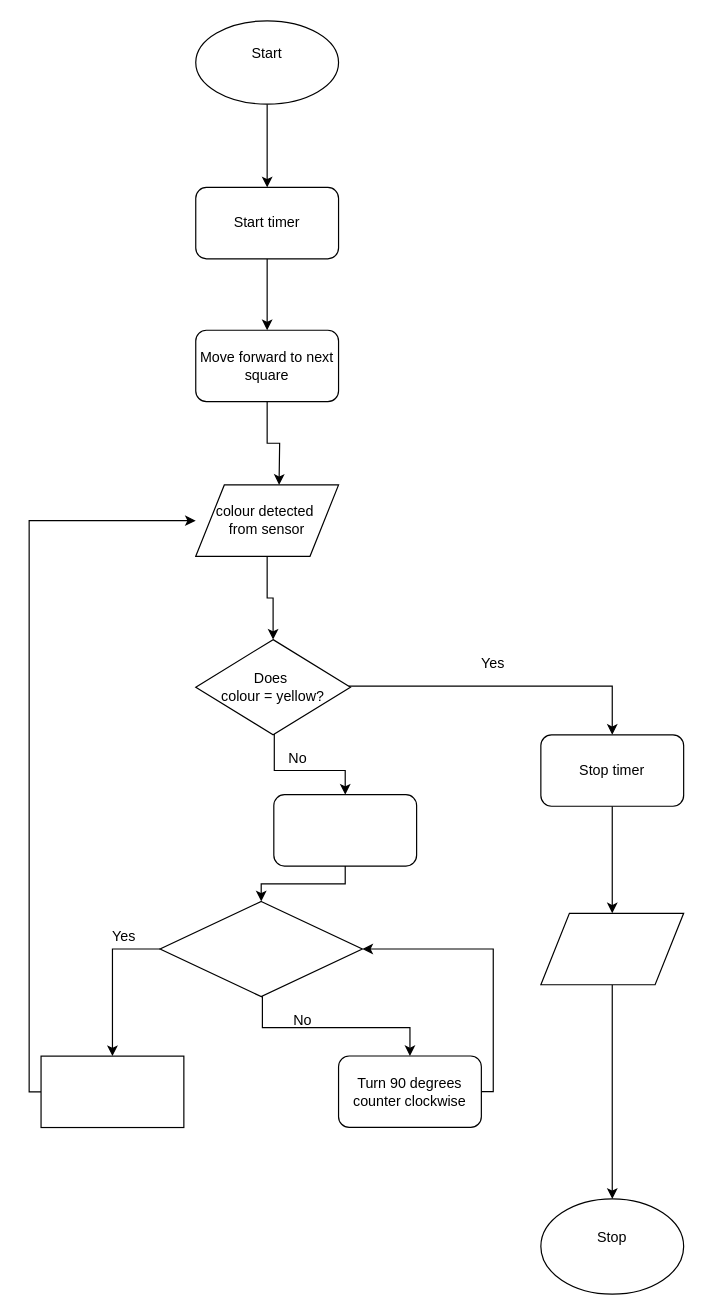
Image size: 704x1315. Some labels were removed from this diagram. Each missing label, with the centre of its shape:
Is there space detected by sensor?: (260,948)
Move folward to next square: (112,1091)
Output time taken: (612,948)
Turn 90degrees clockwise: (345,829)
